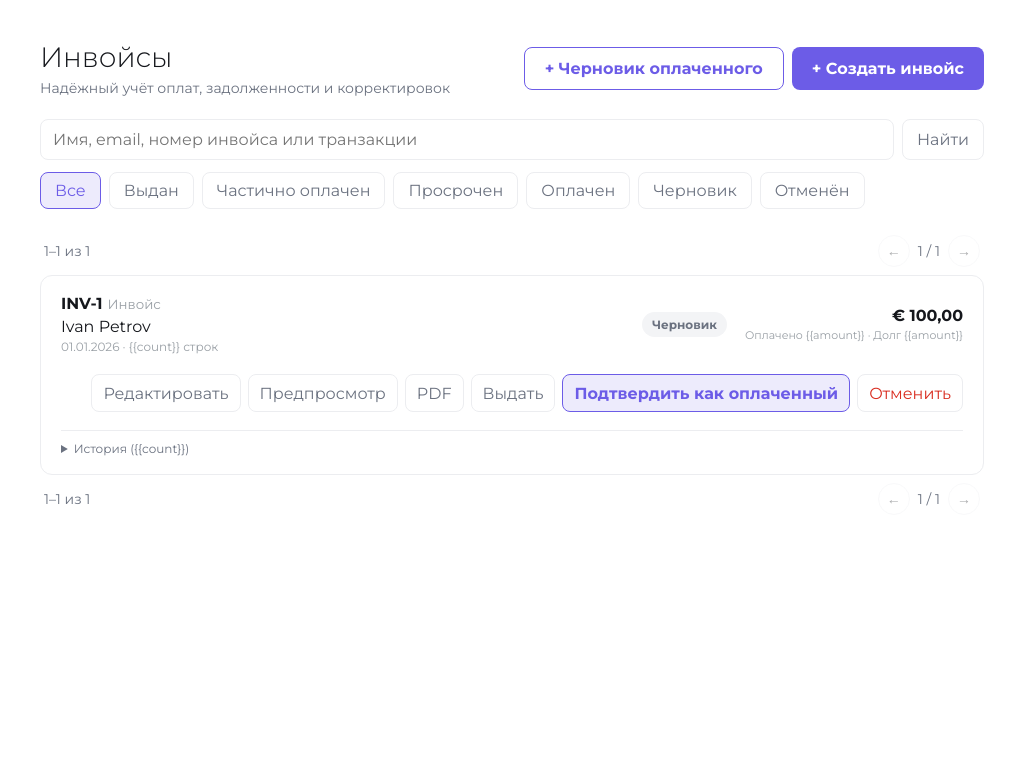
Test: InvoicesPage › opens the create-invoice modal
Expected: the text "INV-1" is shown, [61,294,103,313]
Click the button "+ Создать инвойс" at (888, 68), box [792,47,984,90]
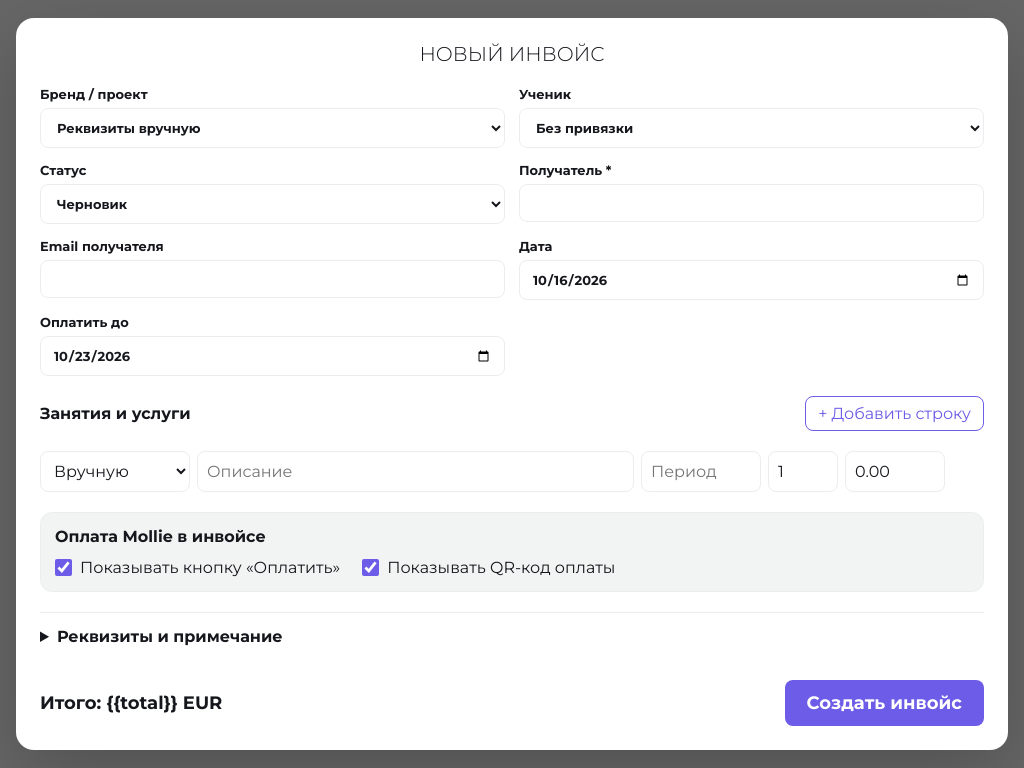
Now the heading "НОВЫЙ ИНВОЙС" is shown, box [419,42,605,66]
